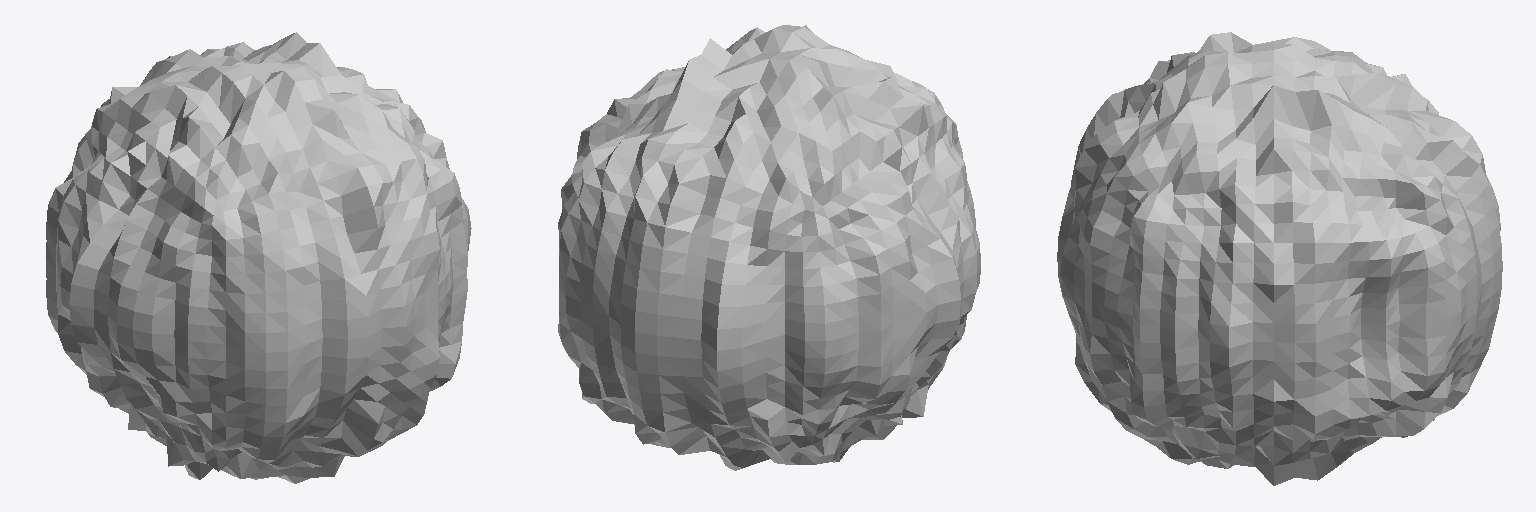
File: asteroid99.obj
3 renders of one model, left to right at view 1: azimuth 30°, elevation 25°; view 2: azimuth 150°, elevation 25°; view 3: azimuth 270°, elevation 25°, orthographic.
Visible parts, largest first — view 1: Cube_Cube.002; view 2: Cube_Cube.002; view 3: Cube_Cube.002.
Part boxes in pixels (x1,y1,x2,y2): Cube_Cube.002: (46,32,471,483); Cube_Cube.002: (558,25,980,470); Cube_Cube.002: (1057,32,1502,485).
Size of the model in its own units: 1.72 by 1.77 by 1.75.